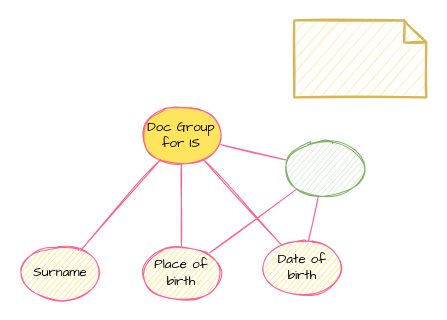
Some shapes in this 447 by 320 pixel diagram are drawn without their labels. Each missing label, with the box of its shape:
Code group birth data: (282, 140, 366, 196)
Document links hidden: (293, 19, 427, 98)
